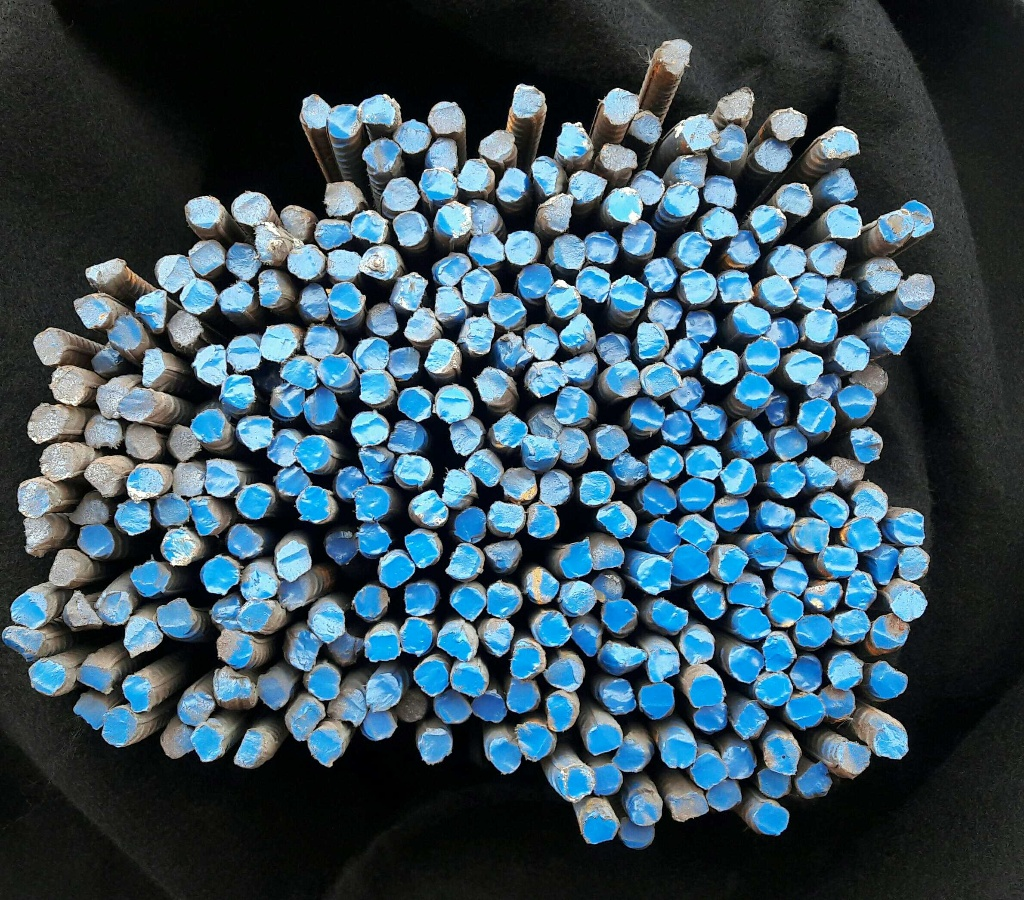dipstick: (212, 670, 255, 710), (730, 418, 769, 460), (27, 403, 68, 442), (154, 255, 195, 292), (596, 500, 636, 537), (605, 638, 646, 674), (38, 445, 80, 480), (289, 699, 324, 741), (161, 529, 199, 567), (465, 450, 503, 488), (486, 294, 526, 330), (523, 434, 561, 471), (391, 274, 428, 311), (358, 447, 395, 484), (50, 368, 87, 405), (870, 661, 907, 698), (560, 764, 596, 802), (639, 682, 675, 720), (672, 544, 710, 580), (682, 113, 720, 149), (290, 629, 323, 670), (570, 617, 603, 658), (194, 344, 226, 386), (188, 240, 225, 276), (22, 517, 59, 553), (515, 724, 552, 760), (466, 200, 503, 236), (409, 490, 447, 525), (476, 369, 514, 404), (527, 361, 565, 396), (614, 738, 652, 773), (786, 693, 824, 728), (83, 259, 128, 288), (84, 461, 120, 497), (259, 270, 294, 307), (201, 558, 238, 593), (11, 592, 48, 627), (327, 690, 364, 725), (692, 404, 727, 441), (811, 493, 848, 528), (231, 192, 269, 226), (360, 246, 398, 280), (156, 601, 194, 635), (532, 157, 566, 195), (136, 290, 166, 333), (432, 252, 471, 285), (17, 483, 53, 518), (679, 478, 715, 513), (603, 88, 638, 124), (828, 653, 863, 689), (873, 724, 908, 760), (764, 738, 799, 774), (325, 181, 362, 215), (227, 243, 261, 280), (287, 246, 324, 280), (310, 603, 344, 640), (486, 737, 520, 774), (638, 557, 672, 594), (730, 646, 764, 683), (690, 755, 727, 789), (310, 729, 343, 767), (643, 364, 681, 397), (677, 231, 710, 269), (2, 627, 45, 656), (755, 500, 795, 531), (295, 438, 330, 473), (125, 424, 160, 459), (217, 630, 252, 665), (536, 612, 571, 647), (489, 501, 524, 536), (608, 188, 643, 223), (713, 497, 748, 532), (168, 310, 202, 346), (451, 664, 487, 698), (602, 600, 638, 634), (528, 403, 564, 437), (590, 533, 624, 569), (458, 158, 494, 192), (550, 234, 584, 270), (688, 445, 722, 481), (681, 269, 717, 303), (750, 206, 786, 240), (693, 584, 727, 620), (873, 615, 909, 649), (392, 120, 429, 153), (29, 662, 66, 695), (647, 446, 684, 479), (786, 352, 823, 385), (131, 562, 169, 594), (235, 730, 267, 768), (556, 386, 588, 424), (560, 350, 598, 382), (559, 121, 591, 159), (72, 296, 111, 327), (542, 194, 573, 233), (225, 337, 260, 371), (261, 327, 296, 361), (297, 487, 331, 522), (365, 674, 399, 709), (414, 660, 448, 695), (548, 657, 583, 691), (448, 420, 483, 454), (497, 168, 531, 203), (512, 85, 547, 119), (653, 598, 688, 632), (622, 220, 656, 255), (866, 258, 901, 292), (835, 336, 869, 371), (773, 561, 808, 595), (180, 280, 216, 313), (188, 500, 221, 536), (227, 525, 263, 558), (102, 710, 135, 746), (501, 467, 537, 500), (518, 262, 551, 298), (768, 464, 804, 497), (796, 614, 832, 647), (206, 459, 238, 496), (96, 381, 128, 418), (85, 416, 122, 448), (463, 317, 495, 354), (715, 545, 747, 582), (123, 620, 161, 651), (547, 694, 578, 732), (109, 317, 143, 351), (66, 592, 100, 626), (439, 627, 473, 661), (510, 644, 544, 678), (702, 350, 736, 384), (721, 459, 755, 493), (836, 608, 870, 642), (820, 685, 854, 719), (383, 177, 418, 210), (279, 205, 312, 240), (329, 284, 362, 319), (78, 524, 113, 557), (74, 696, 107, 731), (403, 532, 436, 567), (556, 428, 589, 463), (613, 276, 646, 311), (644, 257, 677, 292), (822, 168, 857, 201), (757, 673, 792, 706), (185, 196, 221, 228), (305, 389, 337, 425), (389, 421, 425, 453), (256, 672, 288, 708), (435, 692, 471, 724), (526, 567, 558, 603), (481, 131, 517, 163), (641, 482, 677, 514), (666, 339, 702, 371), (714, 125, 746, 161), (746, 338, 778, 374), (177, 693, 214, 724), (443, 469, 474, 506), (823, 127, 860, 158), (734, 304, 771, 335), (790, 655, 821, 692), (548, 280, 578, 318), (437, 203, 471, 236), (96, 592, 130, 625), (379, 554, 413, 587), (563, 582, 596, 616), (453, 508, 487, 541), (437, 388, 471, 421), (525, 325, 558, 359), (607, 362, 640, 396), (596, 426, 629, 460), (718, 270, 752, 303), (840, 385, 874, 418), (850, 428, 883, 462), (890, 513, 924, 546), (393, 211, 425, 246), (422, 168, 457, 200), (417, 729, 452, 761), (462, 269, 494, 304), (469, 234, 504, 266), (630, 399, 665, 431), (661, 410, 693, 445), (658, 39, 690, 74), (756, 138, 791, 170), (770, 245, 805, 277), (810, 243, 845, 275), (737, 375, 772, 407), (750, 535, 785, 567), (754, 803, 789, 835), (720, 746, 755, 778), (363, 139, 399, 170), (425, 340, 461, 371), (352, 413, 388, 444), (168, 426, 199, 462), (34, 329, 65, 365), (153, 493, 189, 524), (192, 726, 223, 762), (561, 541, 592, 577), (635, 323, 666, 359), (799, 400, 835, 431), (852, 489, 888, 520), (358, 95, 395, 125), (672, 792, 709, 822), (701, 208, 738, 238), (877, 210, 914, 240), (847, 572, 876, 610), (304, 326, 337, 359), (238, 416, 271, 449), (356, 487, 389, 520), (399, 620, 432, 653), (435, 287, 468, 320), (506, 232, 539, 265), (680, 630, 713, 663), (827, 206, 860, 239), (796, 519, 829, 552), (735, 705, 768, 738), (352, 211, 386, 243), (355, 339, 389, 371), (191, 410, 225, 442), (237, 488, 271, 520), (278, 543, 310, 577), (404, 582, 436, 616), (447, 543, 479, 577), (603, 680, 635, 714), (540, 471, 572, 505), (577, 268, 609, 302), (778, 184, 812, 216), (736, 607, 770, 639), (689, 675, 723, 707), (429, 102, 464, 133), (120, 389, 155, 420), (583, 813, 618, 844), (597, 333, 632, 364), (620, 818, 655, 849), (807, 580, 842, 611), (799, 762, 830, 797), (797, 273, 827, 309), (300, 284, 329, 321), (126, 468, 163, 497), (367, 303, 399, 336), (49, 552, 82, 584), (326, 531, 359, 563), (161, 725, 194, 757), (507, 680, 540, 712), (648, 520, 681, 552), (613, 452, 646, 484), (848, 518, 880, 551), (328, 104, 359, 138), (220, 282, 254, 313), (337, 466, 368, 500), (355, 585, 389, 616), (591, 571, 625, 602), (493, 416, 527, 447), (662, 737, 696, 768), (648, 648, 679, 682), (665, 184, 699, 215), (773, 428, 807, 459), (824, 546, 858, 577), (707, 780, 741, 811), (588, 724, 623, 754), (487, 541, 522, 571), (763, 636, 793, 671), (114, 502, 150, 531), (905, 199, 934, 235), (314, 221, 351, 249), (122, 675, 150, 712), (882, 316, 910, 353), (452, 588, 484, 620), (487, 584, 519, 616), (585, 231, 617, 263), (630, 793, 662, 825), (669, 377, 701, 409), (676, 154, 708, 186), (319, 356, 352, 387), (273, 385, 304, 418), (266, 435, 299, 466), (481, 620, 512, 653), (528, 504, 559, 537), (579, 473, 612, 504), (719, 91, 752, 122), (705, 175, 736, 208), (832, 455, 865, 486), (173, 462, 203, 496), (356, 522, 390, 552), (362, 710, 396, 740), (633, 170, 663, 204), (900, 274, 930, 308), (769, 595, 803, 625), (835, 744, 870, 773), (240, 570, 276, 598), (571, 172, 607, 200), (328, 250, 360, 281), (223, 376, 255, 407), (758, 767, 790, 798), (397, 390, 430, 420), (366, 631, 399, 661), (395, 456, 429, 485), (77, 665, 111, 694), (761, 277, 795, 306), (827, 277, 856, 311), (301, 93, 329, 128), (276, 467, 311, 495), (601, 143, 637, 170), (729, 580, 765, 607), (405, 309, 435, 341), (309, 668, 339, 700), (686, 311, 716, 343), (630, 111, 660, 143), (807, 310, 837, 342), (563, 315, 592, 348), (871, 548, 897, 584), (774, 109, 805, 139), (730, 233, 760, 264), (805, 456, 835, 487), (899, 548, 929, 579), (473, 694, 506, 722), (648, 300, 681, 328), (282, 362, 316, 389), (73, 497, 108, 523), (593, 765, 623, 795), (358, 374, 390, 402), (239, 602, 272, 629), (768, 319, 798, 347), (429, 139, 456, 170), (694, 706, 727, 731), (142, 350, 165, 385), (390, 348, 419, 375)
